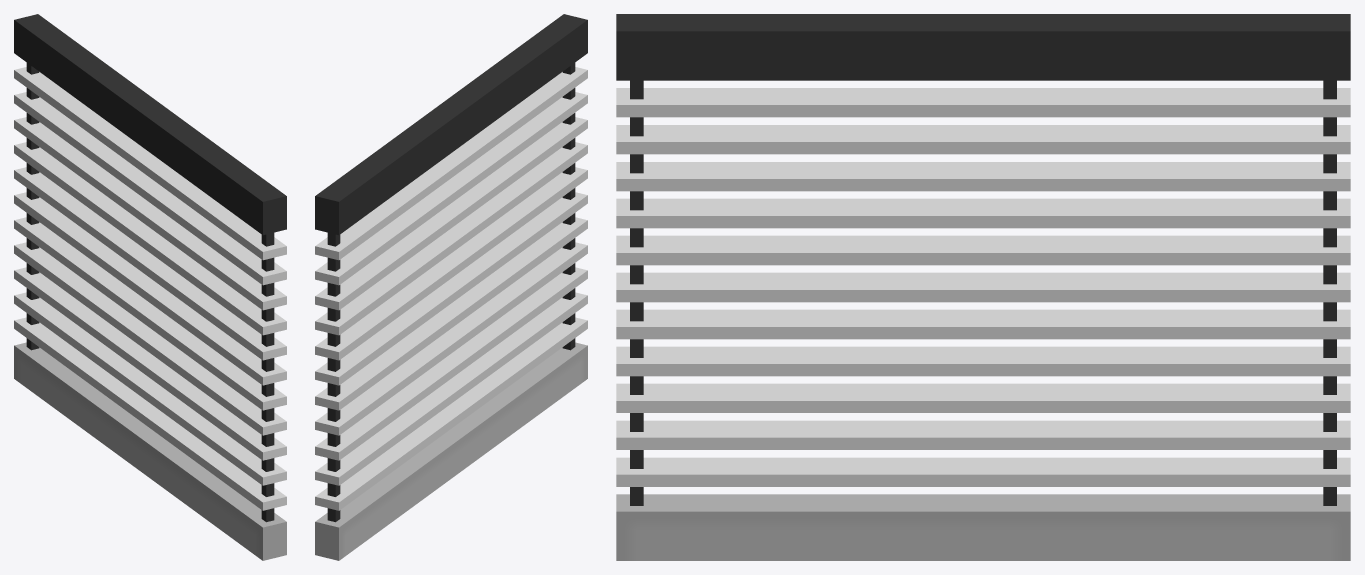
Rendered from blinds.fbx.
3 renders of one model, left to right at view 1: azimuth 30°, elevation 25°; view 2: azimuth 150°, elevation 25°; view 3: azimuth 270°, elevation 25°, orthographic. The views are drawn at different scales.
Parts seen in each view (by area): view 1: blinds; view 2: blinds; view 3: blinds.
Part boxes in pixels (<box>): blinds: <box>14,14,286,560</box>; blinds: <box>315,14,587,560</box>; blinds: <box>616,14,1350,560</box>.
Size of the model in its own units: 3 by 43 by 54.
